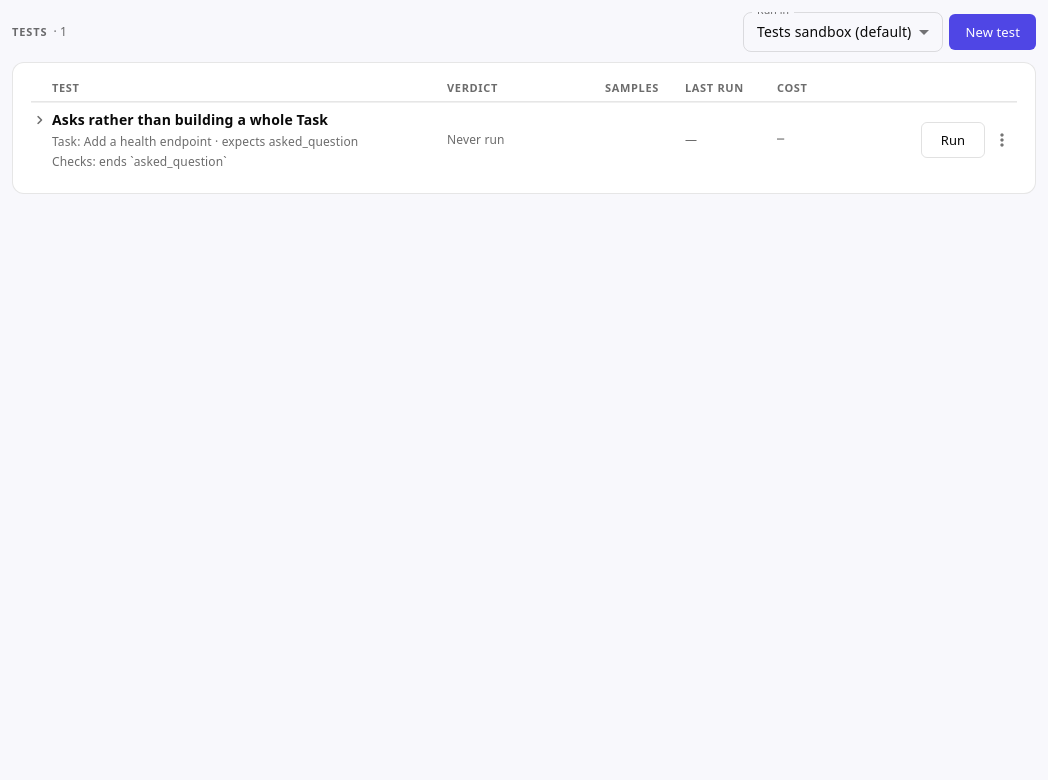
TestsTabContent › says why a test could not start
The width and height of the screenshot is (1048, 780).
Click the button "Run" at (953, 140), box 921,122 -> 985,158
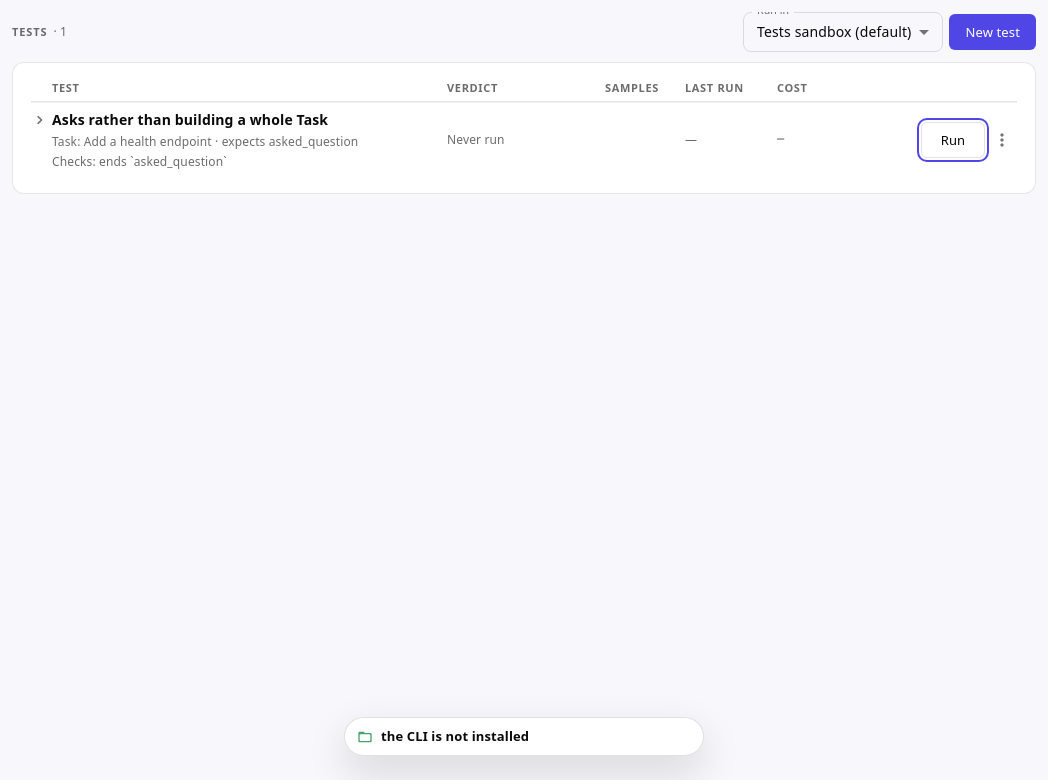
Check: the text "the CLI is not installed" is shown, box 381,727 -> 529,745
